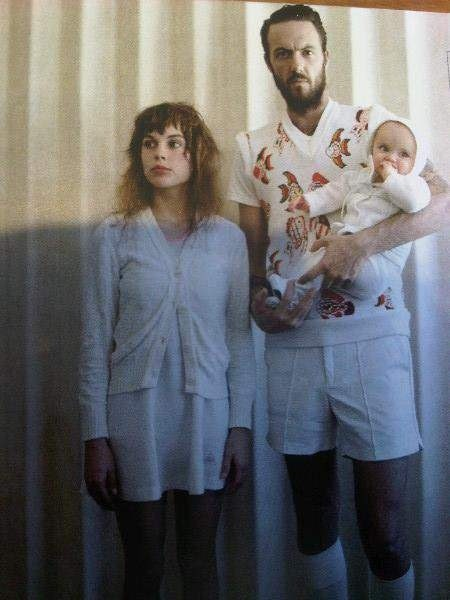face_no_mask: (258, 5, 331, 105), (130, 101, 212, 186), (370, 117, 416, 179)
